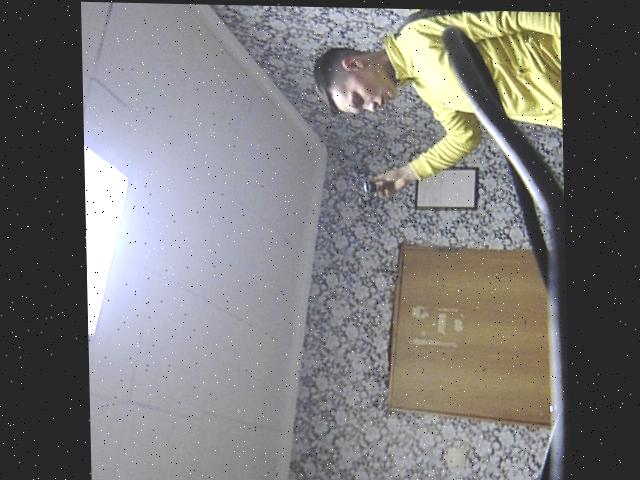drone: (343, 151, 387, 213)
